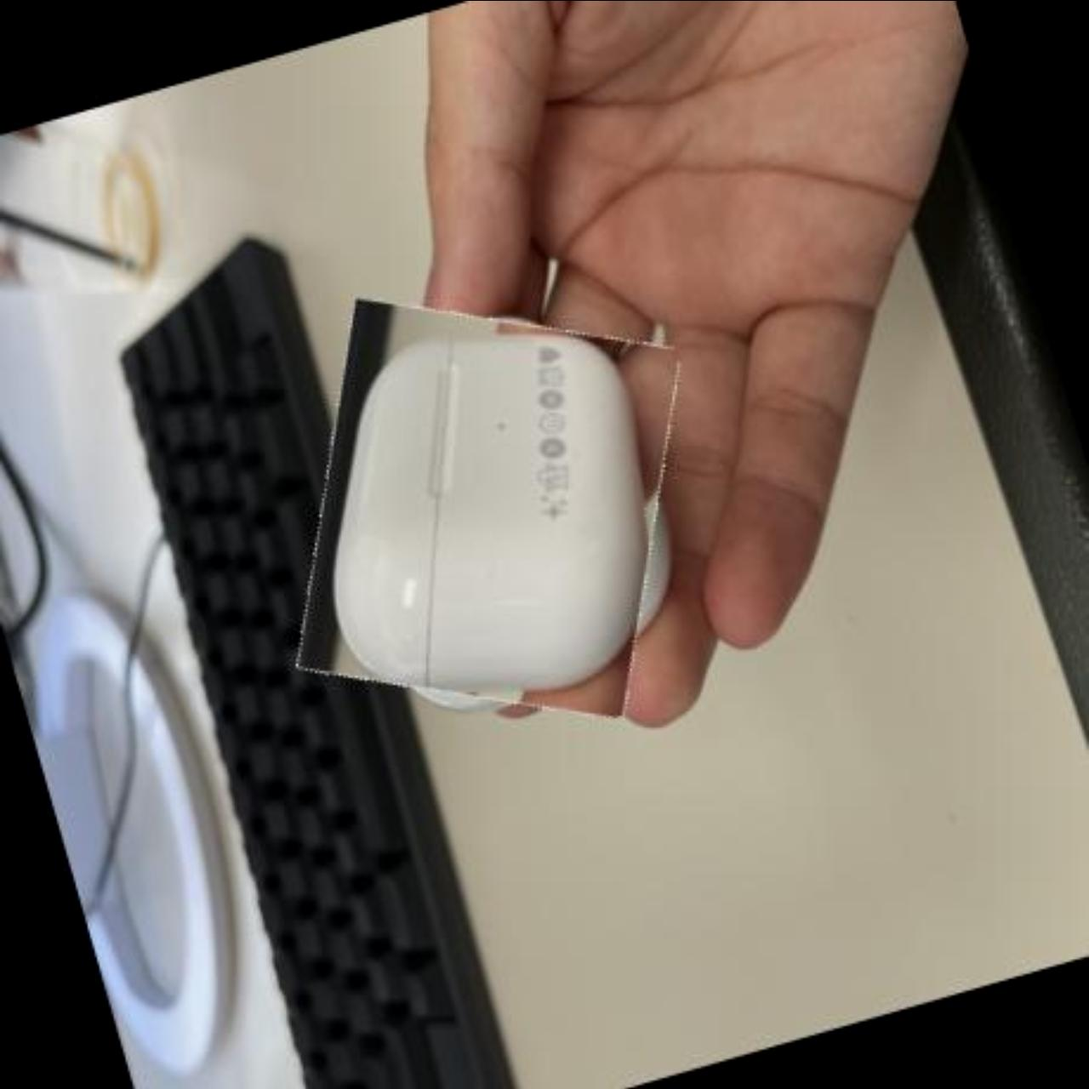AirPods: (242, 250, 736, 768)
